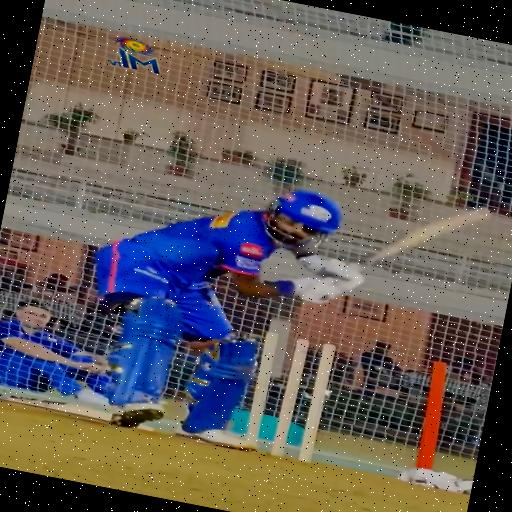Cricket bat: (360, 208, 492, 271)
